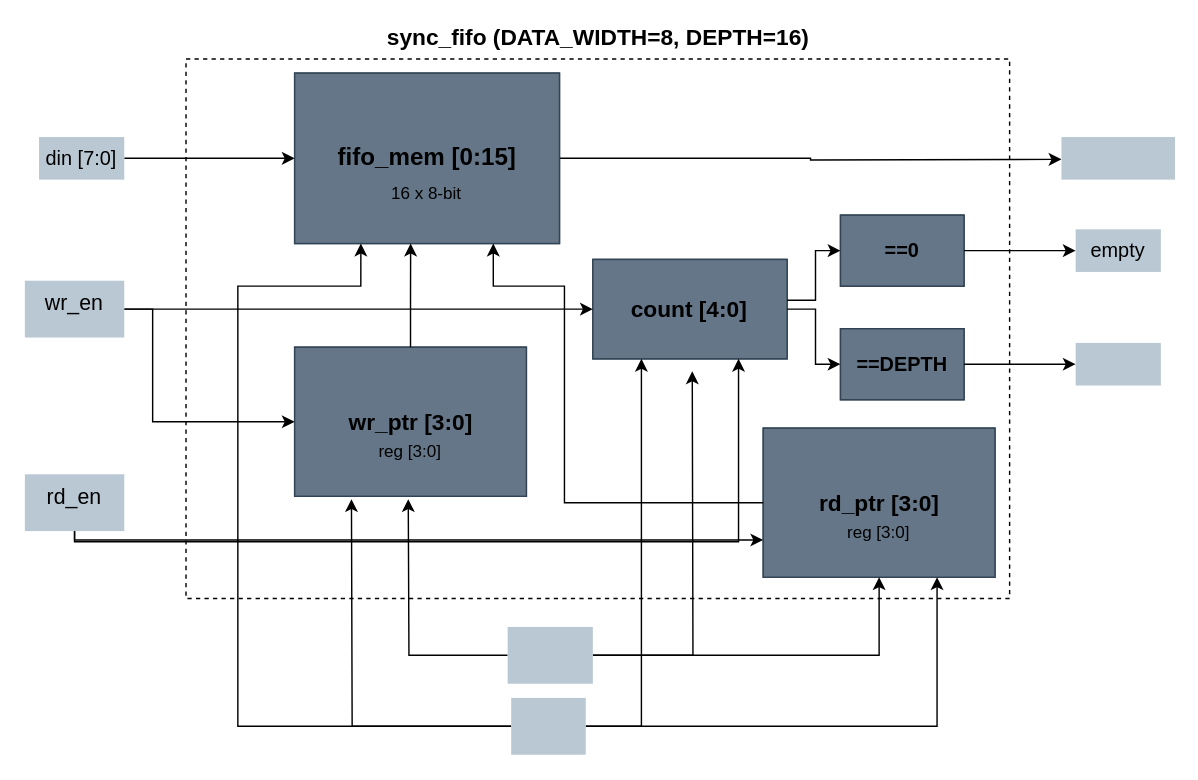
The diagram is 1198 pixels wide and 780 high, and some of its shapes have lost their labels. The centre of each missing label's shape, as x and y in pixels:
"clk" belongs at point 547,725.
"dout [7:0]" belongs at point 1117,157.
"full" belongs at point 1117,363.
"rst_n" belongs at point 549,654.
